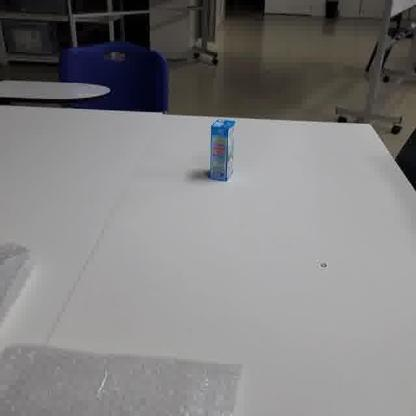Others: (206, 110, 238, 184)
